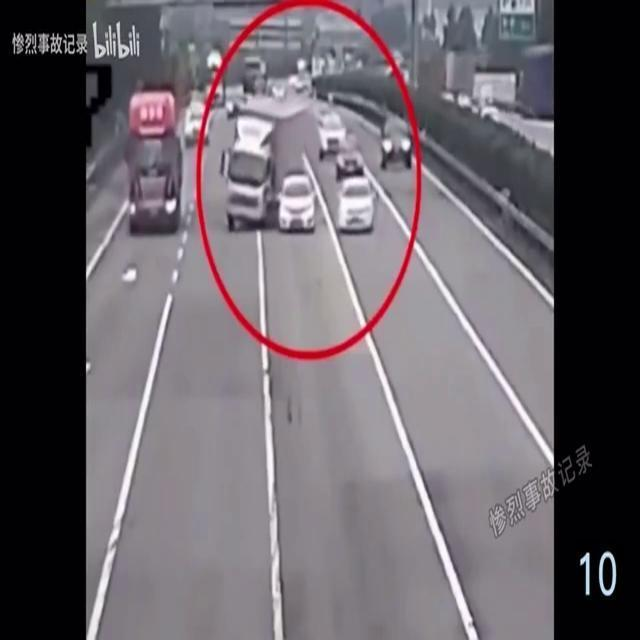accident: (218, 96, 318, 237)
non-accident: (336, 138, 376, 234), (316, 112, 366, 182)
